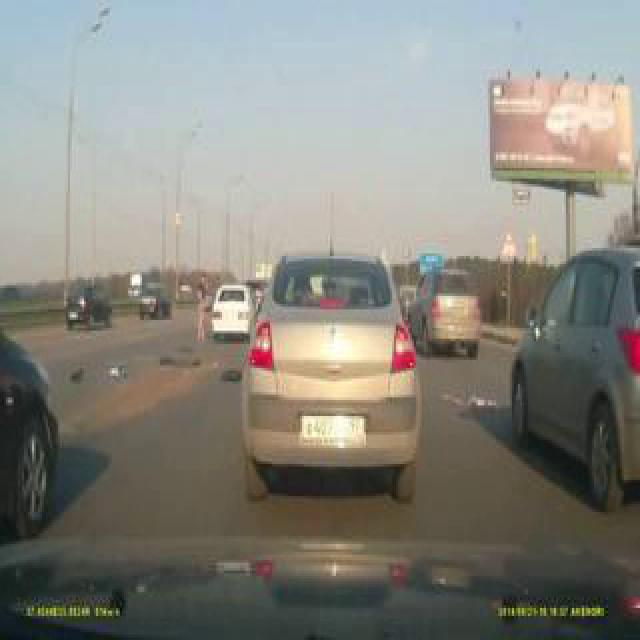explosion: (202, 0, 611, 604)
